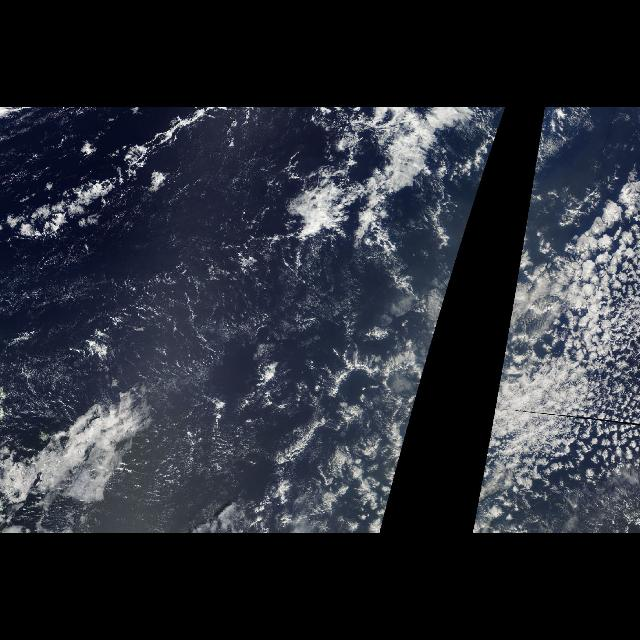Flower: (21, 192, 382, 426), (508, 163, 638, 525)
Gravel: (521, 228, 637, 524)
Sugar: (0, 154, 334, 416)
